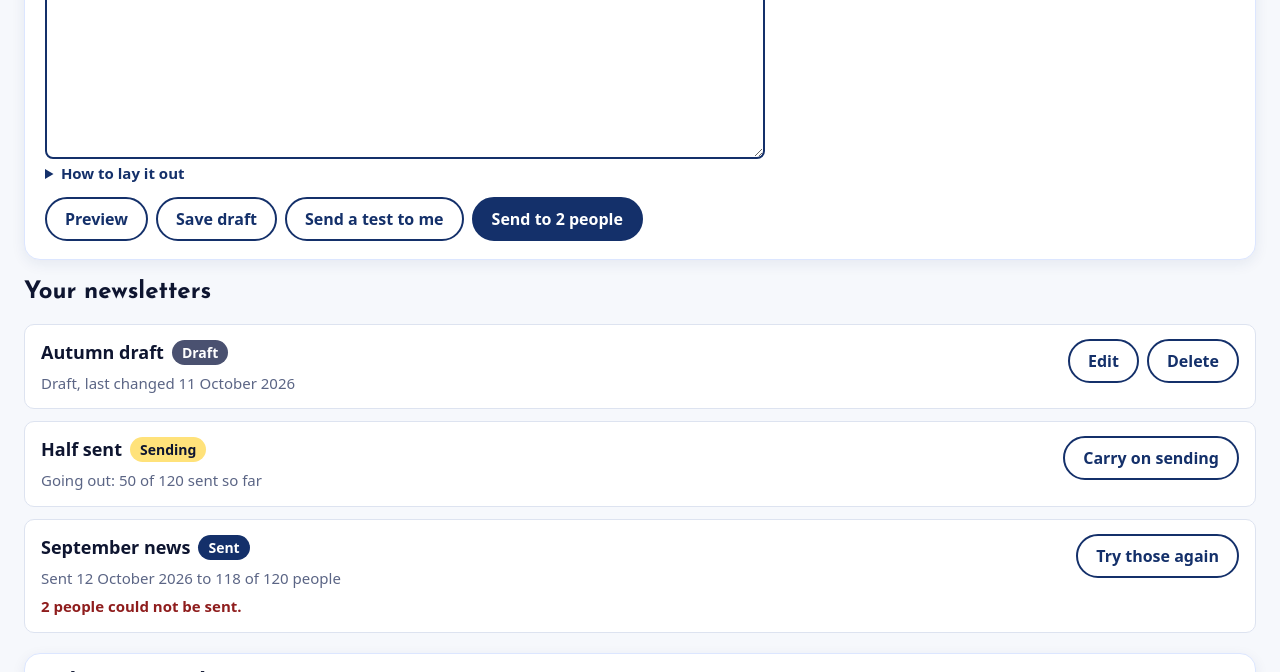
Test: writing, previewing and saving › starts a new one when asked, emptying the form
(page scrolled)
Click the button with aria-label "Edit the draft Autumn draft". click: click(1103, 361)
box: [1068,339,1139,383]
(page scrolled)
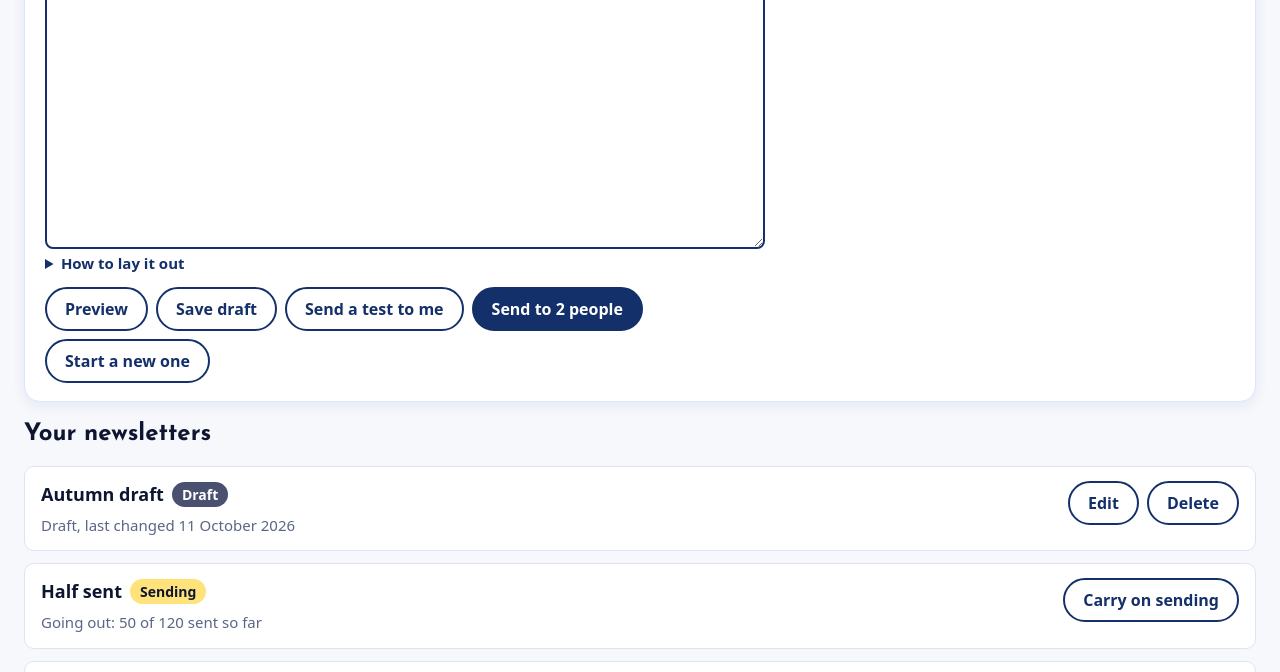
Click the button "Start a new one". click: click(128, 361)
box: [45,339,210,383]
(page scrolled)
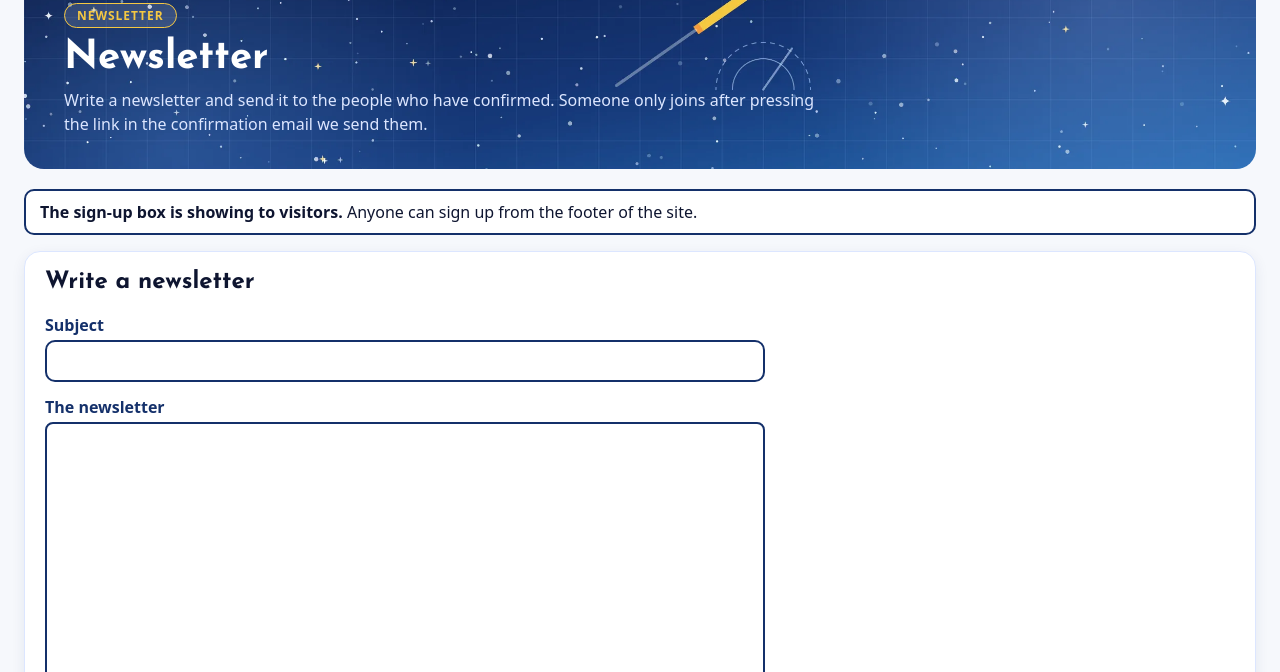
Expected: the field labelled "Subject" is empty, [45,340,765,382]
Expected: the button "Start a new one" is gone
